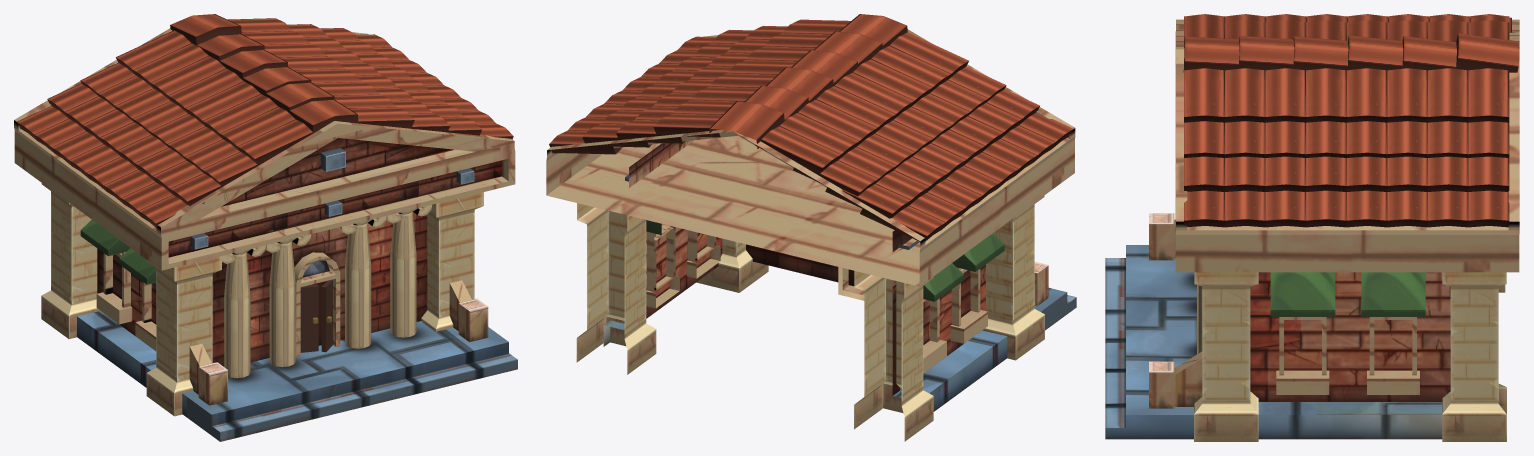
The model's file is Museum_model_mining_game.fbx.
The picture shows the model from 3 angles, left to right: view 1: azimuth 30°, elevation 25°; view 2: azimuth 150°, elevation 25°; view 3: azimuth 270°, elevation 25°; orthographic projection. The views are drawn at different scales.
Parts seen in each view (by area): view 1: museum; view 2: museum; view 3: museum.
Boxes of the visible parts, x1,y1,x2,y2 form: museum: (14, 14, 517, 441); museum: (546, 14, 1076, 441); museum: (1105, 14, 1519, 441).
Size of the model in its own units: 12 by 8.54 by 10.25.
1 material, 1 textured.
